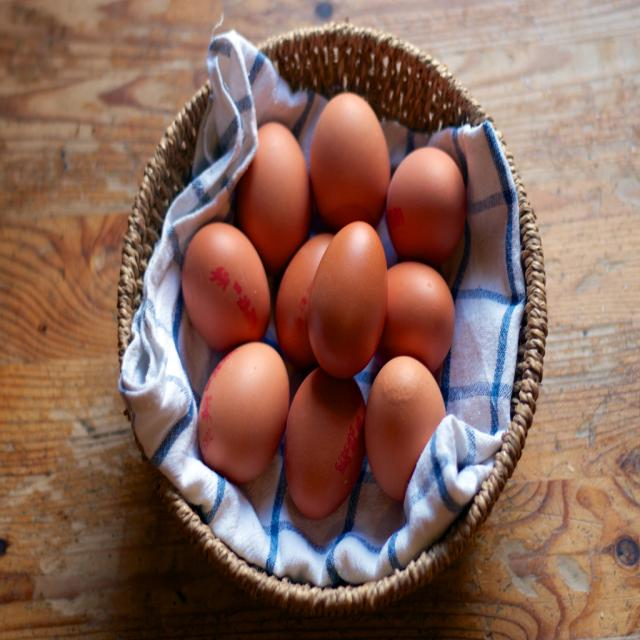Egg: (198, 146, 458, 522), (200, 337, 294, 469)
